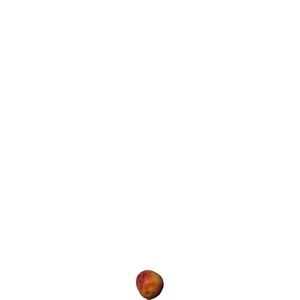pêssego: (137, 271, 165, 300)
